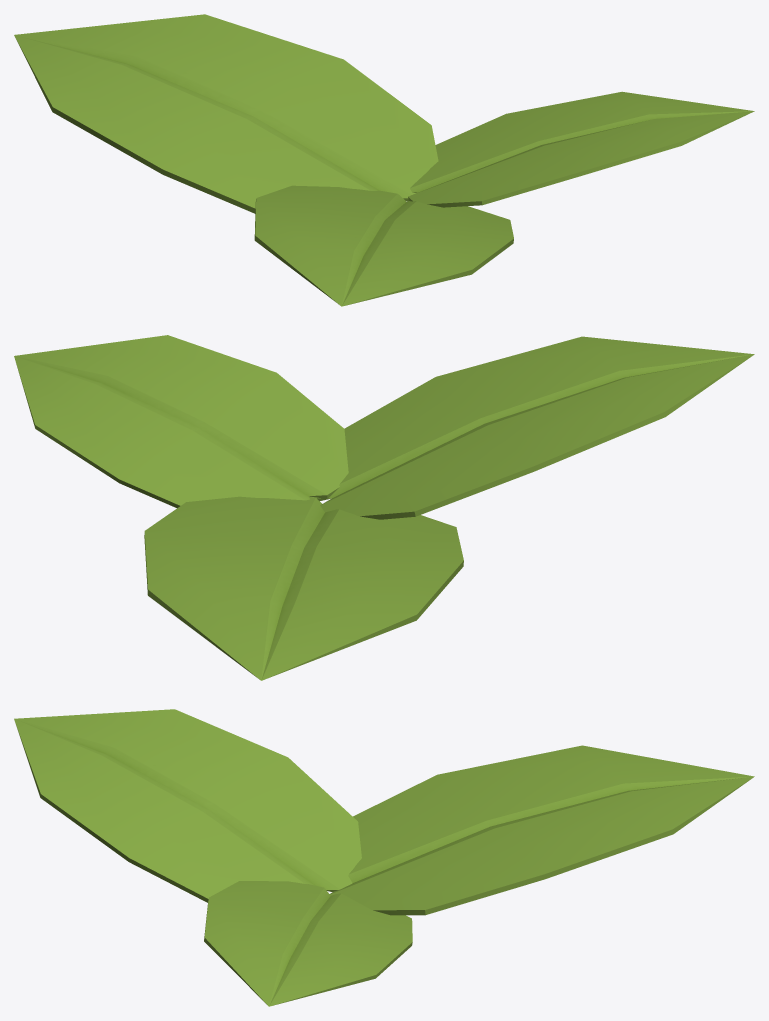
The model's file is shortLeaf_set.fbx.
The picture shows the model from 3 angles, top to bottom: view 1: azimuth 30°, elevation 25°; view 2: azimuth 150°, elevation 25°; view 3: azimuth 270°, elevation 25°; orthographic projection. The views are drawn at different scales.
Visible parts, largest first — view 1: shortLeaf_set_geo; view 2: shortLeaf_set_geo; view 3: shortLeaf_set_geo.
Boxes of the visible parts, bbox=[...] form: shortLeaf_set_geo: bbox=[14, 14, 754, 306]; shortLeaf_set_geo: bbox=[14, 335, 754, 680]; shortLeaf_set_geo: bbox=[14, 709, 754, 1006].
Bounding box in the file's own units: 50.34 × 7.72 × 61.98.
Materials: 1 (1 with a texture image).
